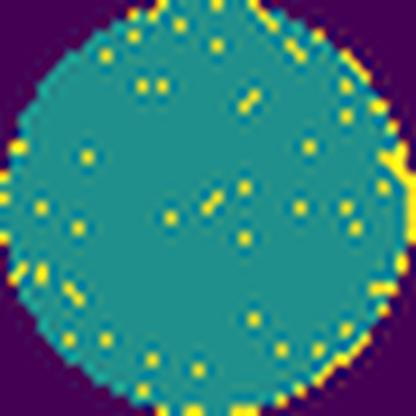Edge-Loc: (380, 140, 415, 242)
